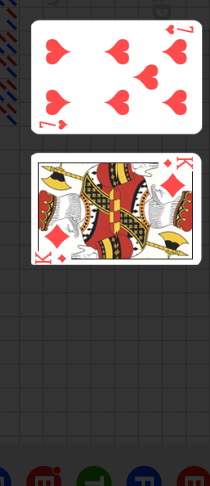7H: (163, 24, 195, 37)
KD: (34, 252, 68, 265)
